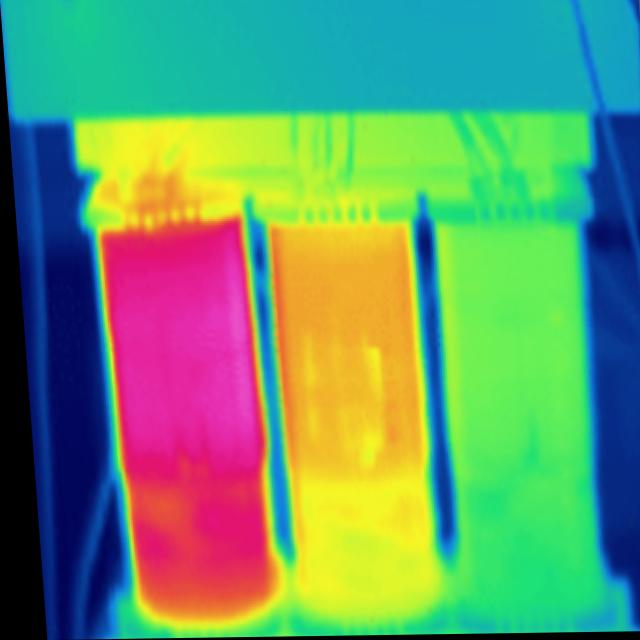Faulty: (78, 195, 287, 625)
Potentially Faulty: (259, 199, 450, 554)
